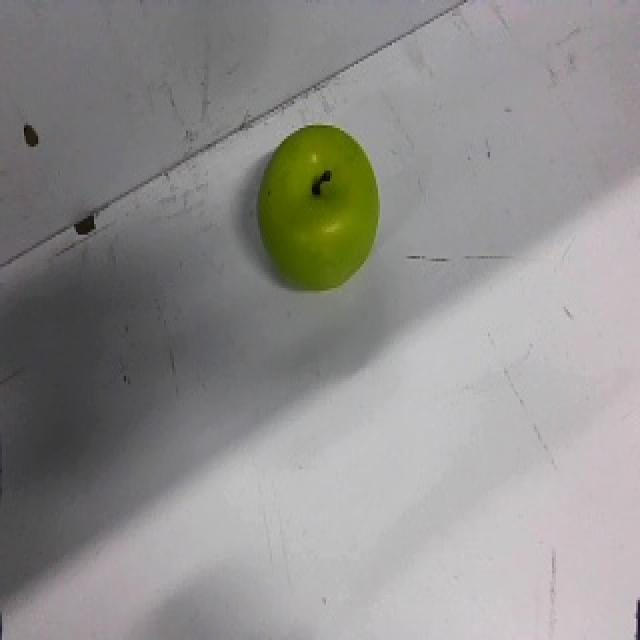apple: (256, 123, 380, 292)
